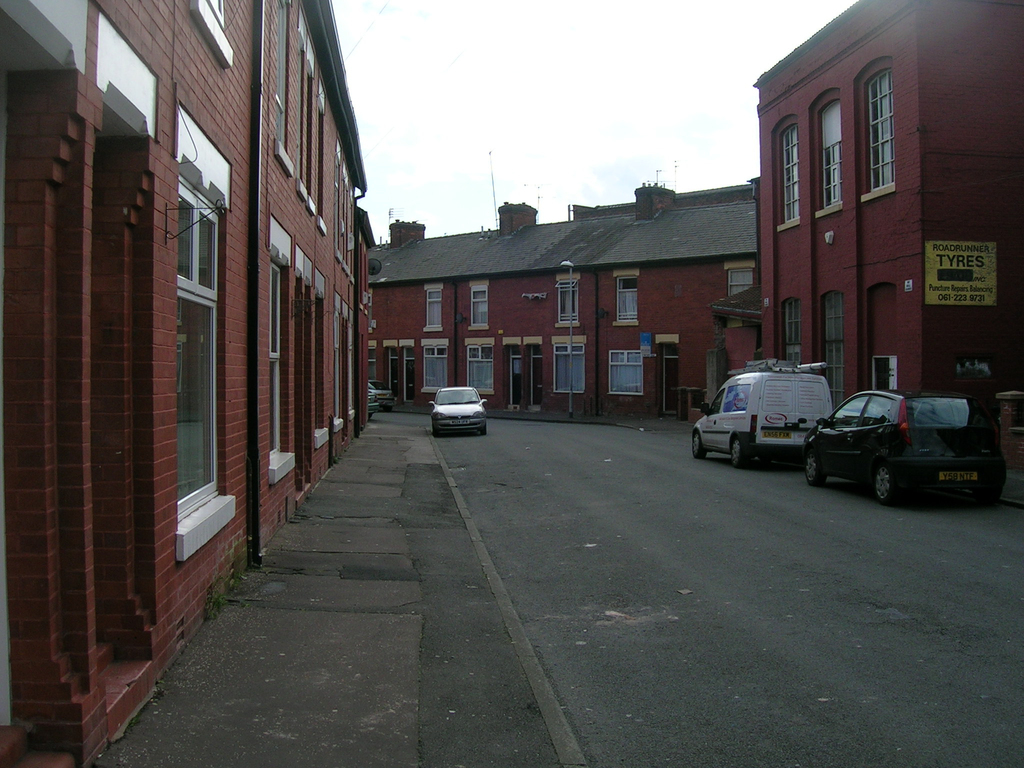cars: (804, 385, 1014, 501), (429, 390, 491, 437), (373, 384, 397, 411), (366, 383, 376, 416)
